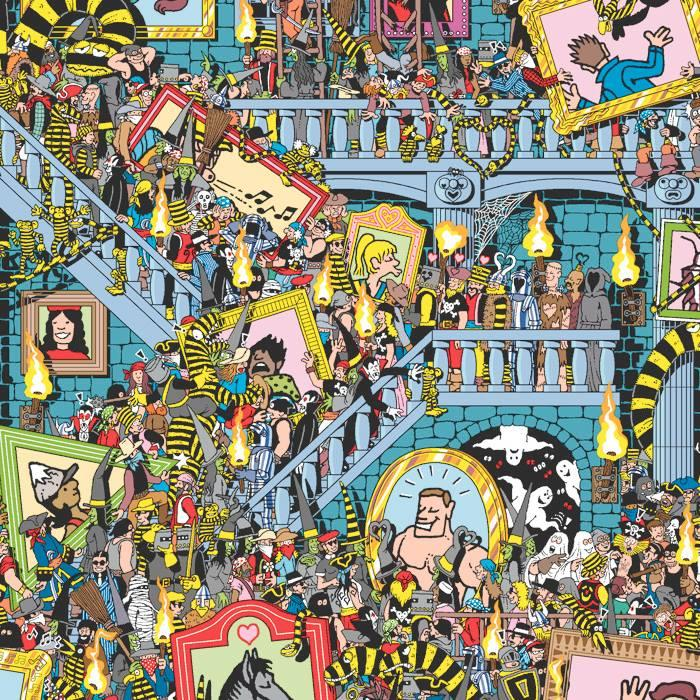waldo: (136, 84, 155, 105)
